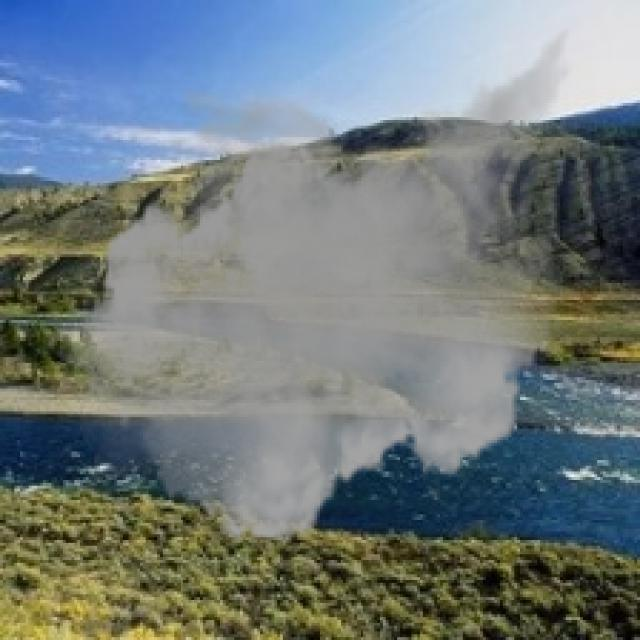Smoke: (43, 0, 583, 557)
